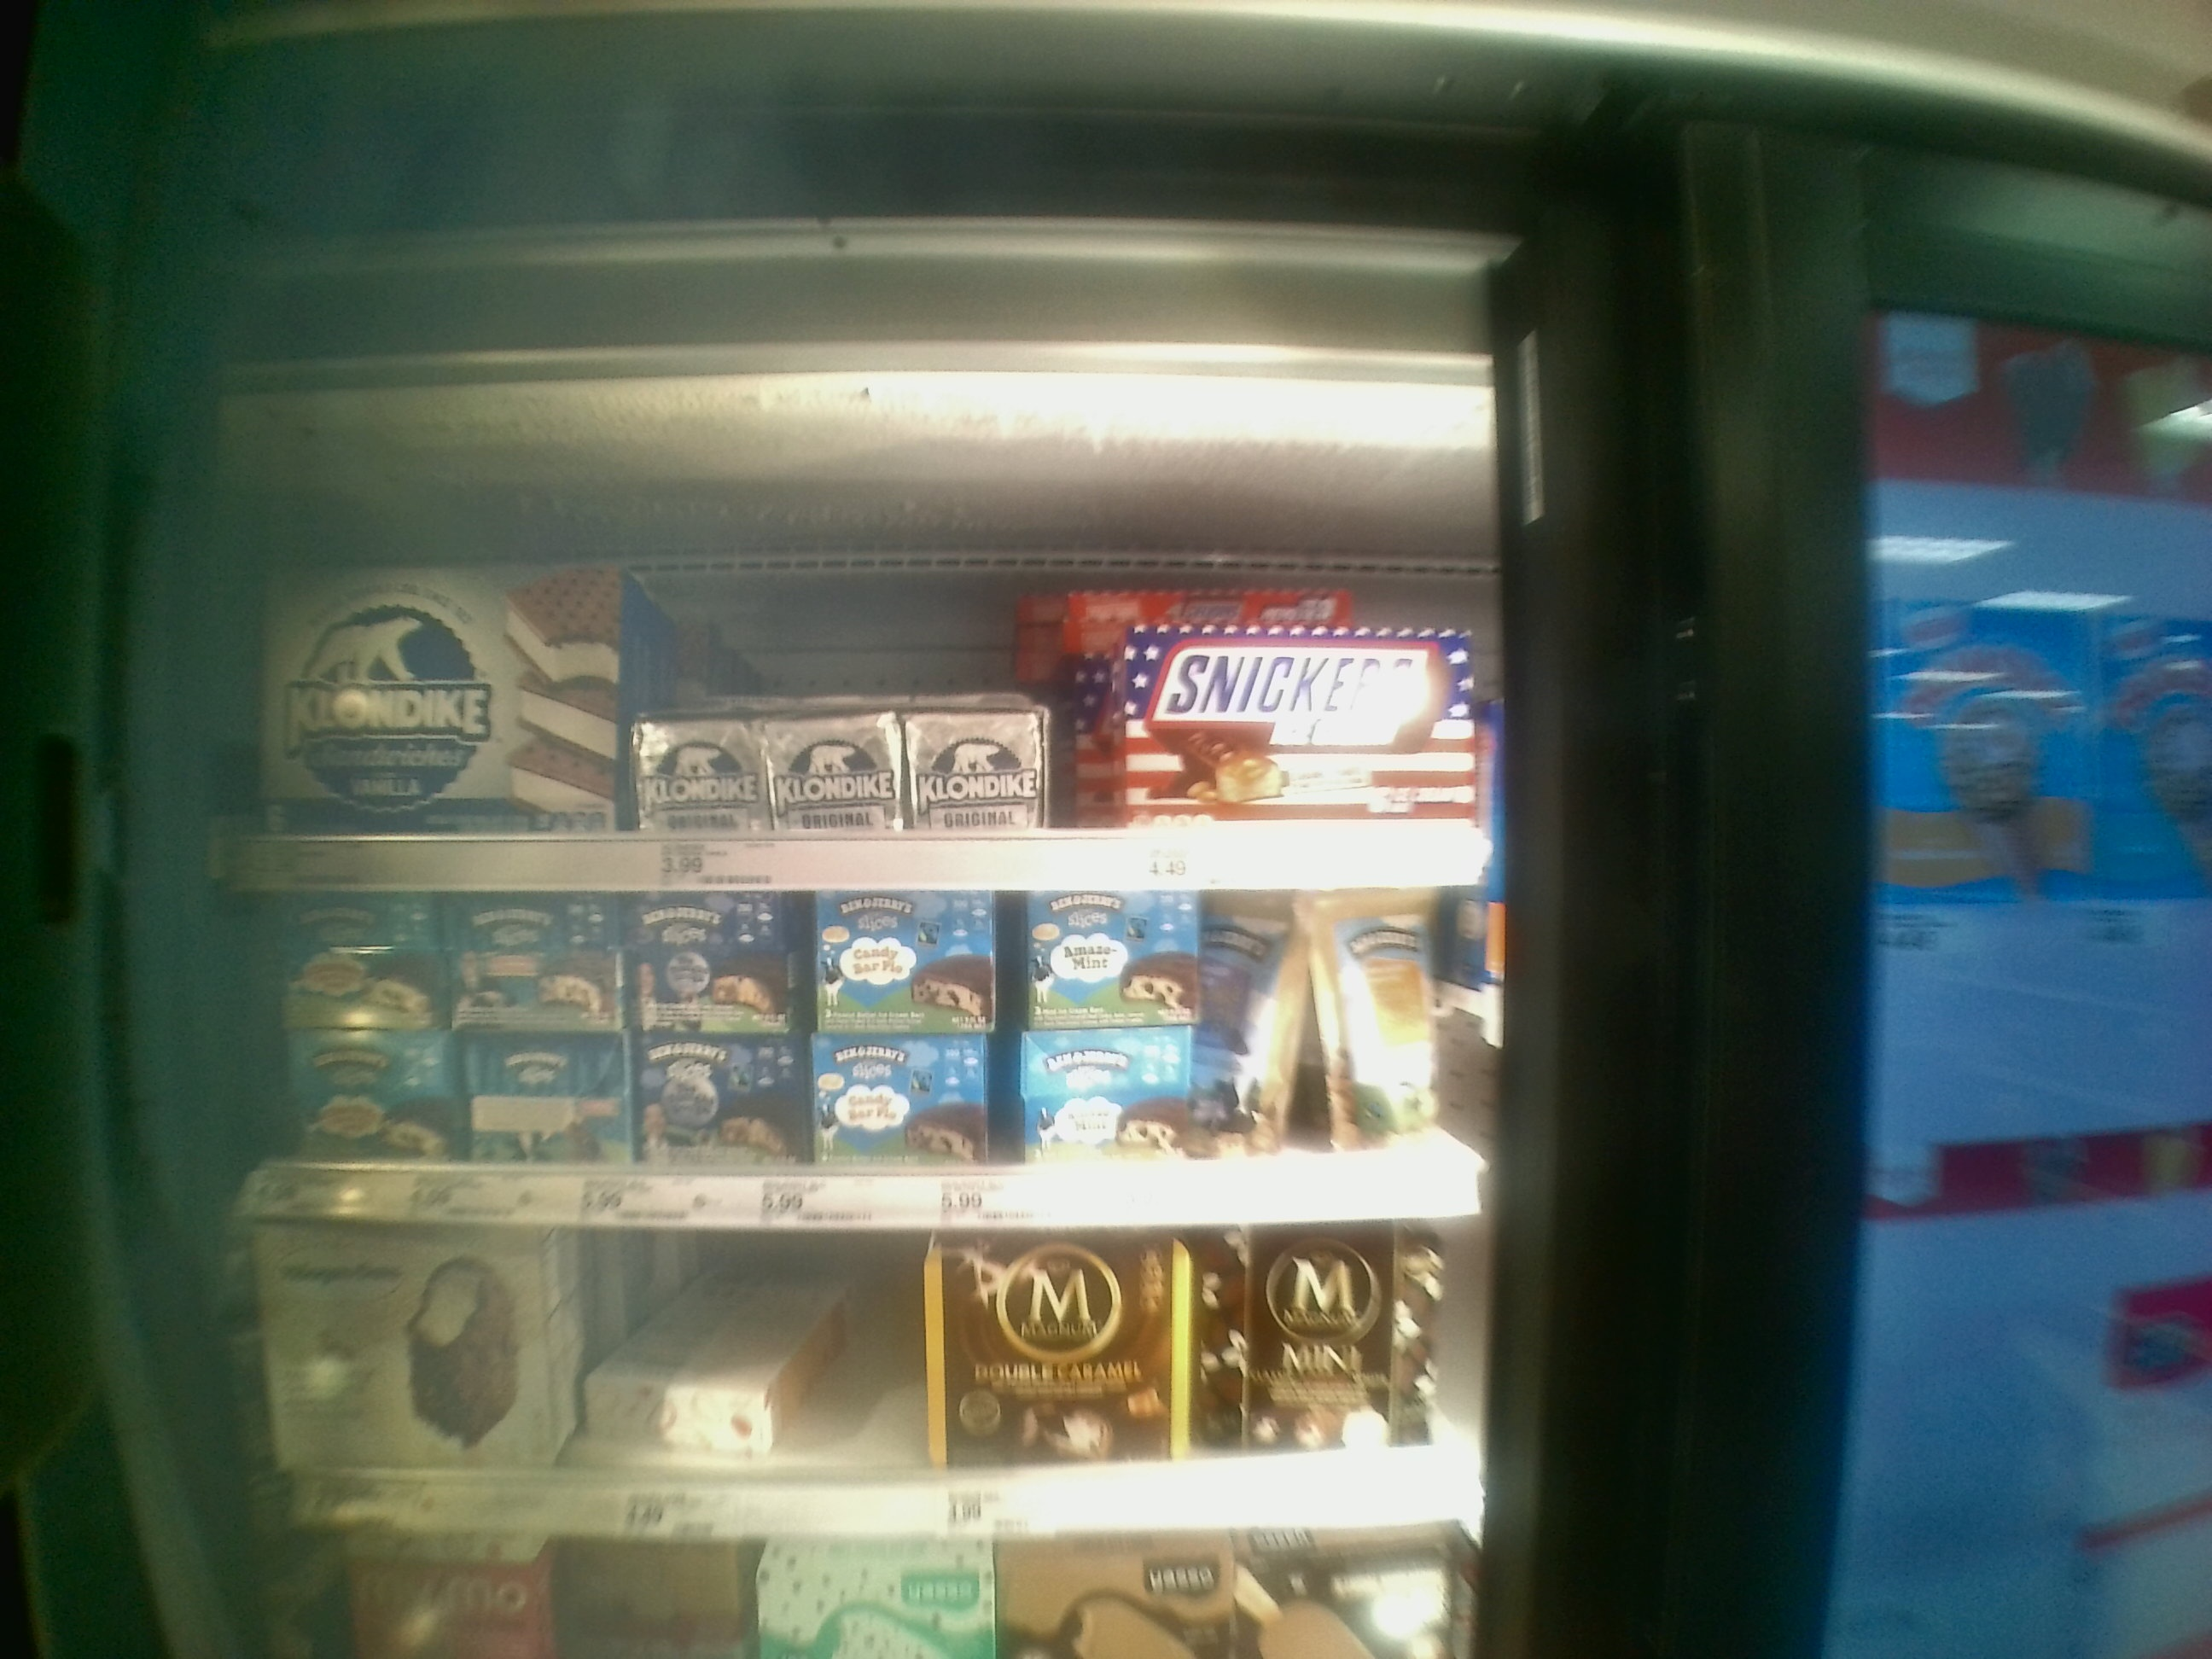ice-cream-shelf: (223, 436, 1505, 894), (218, 897, 1503, 1220), (223, 1225, 1493, 1535)
